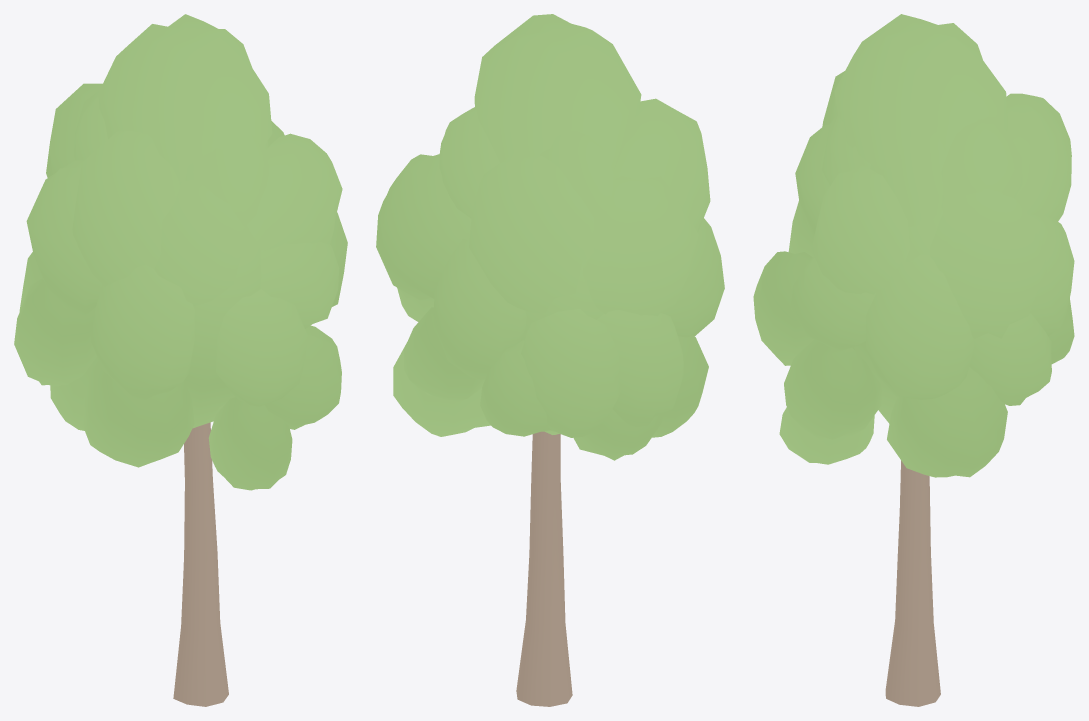
File: Blender_Alder_2.glb
3 renders of one model, left to right at view 1: azimuth 30°, elevation 25°; view 2: azimuth 150°, elevation 25°; view 3: azimuth 270°, elevation 25°, orthographic.
Visible parts, largest first — view 1: Blender_Alder_2; view 2: Blender_Alder_2; view 3: Blender_Alder_2.
Part boxes in pixels (bbox=[...]): Blender_Alder_2: bbox=[14, 14, 347, 706]; Blender_Alder_2: bbox=[376, 14, 724, 706]; Blender_Alder_2: bbox=[753, 14, 1074, 706].
Bounding box in the file's own units: 8.12 × 16.94 × 7.46.
